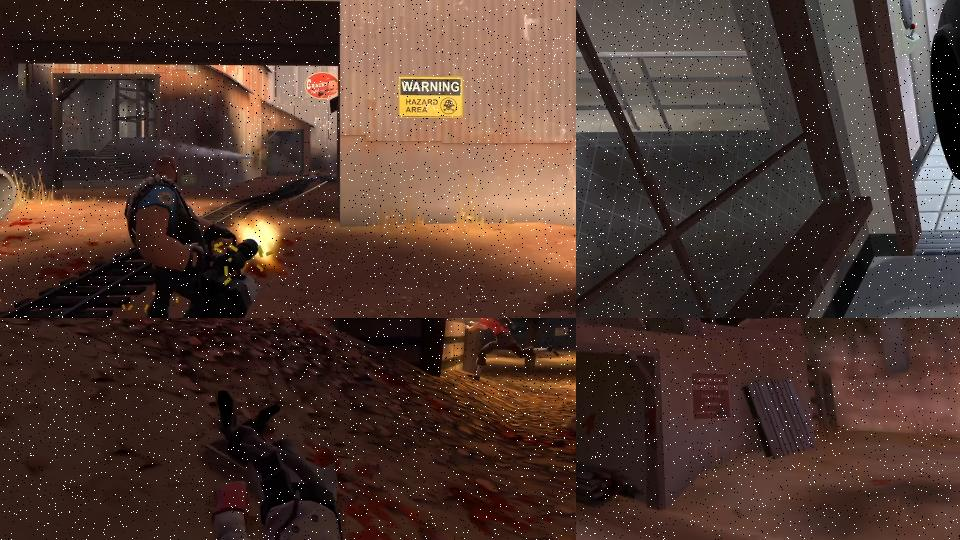Enemy: (194, 385, 571, 540), (122, 153, 274, 318), (462, 318, 559, 380), (629, 318, 653, 330)
